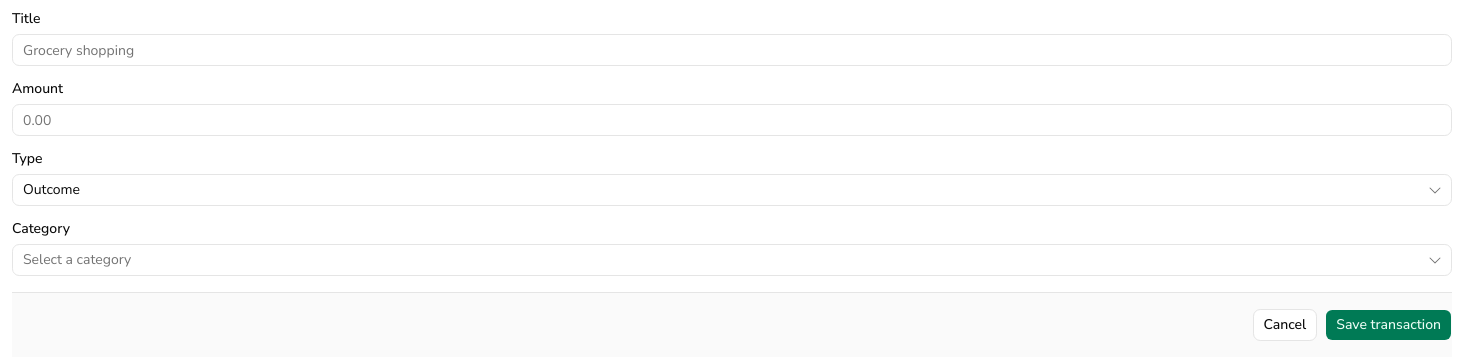
Test: NewTransactionForm › renders every category as an option
Click the dropdown labelled "category". click: (77, 260)
box: [12, 244, 1452, 276]
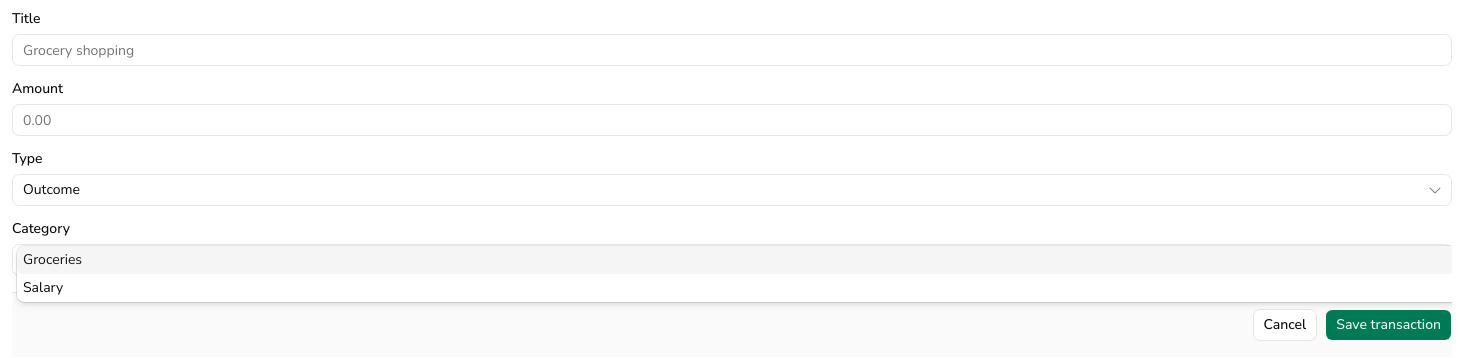
Now the option "Salary" is shown, box [23, 278, 63, 297]
